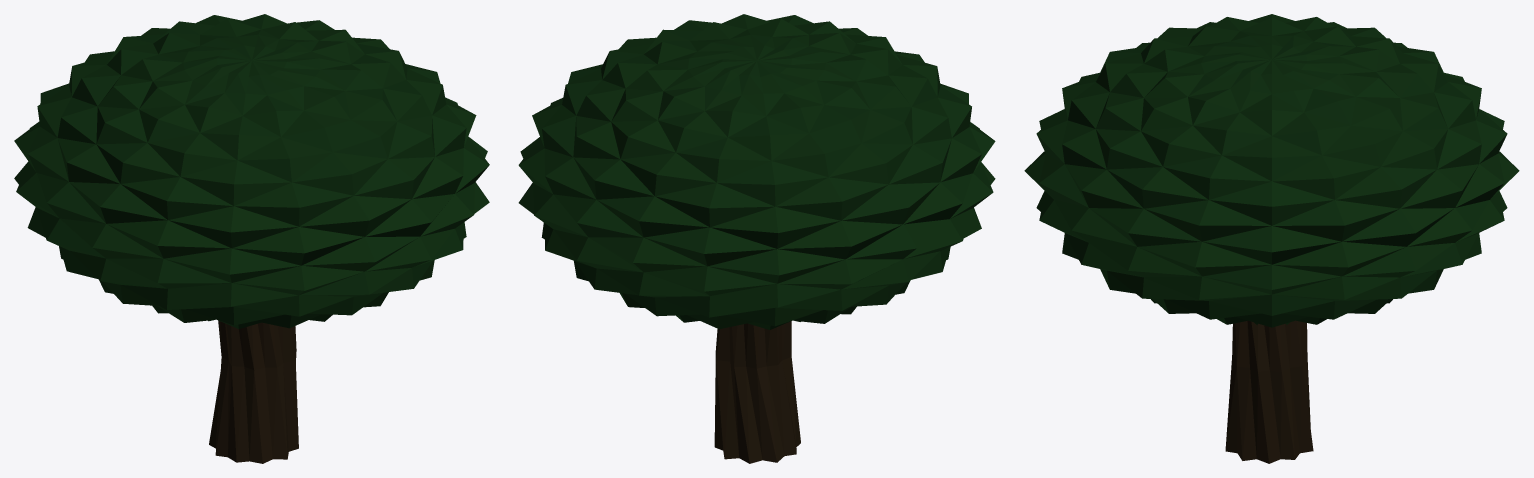
File: ShortFatTree_DrkGreen.fbx
3 renders of one model, left to right at view 1: azimuth 30°, elevation 25°; view 2: azimuth 150°, elevation 25°; view 3: azimuth 270°, elevation 25°, orthographic.
Parts seen in each view (by area): view 1: pSphere3, pCylinder3; view 2: pSphere3, pCylinder3; view 3: pSphere3, pCylinder3.
Part boxes in pixels (left/top/right/bottom): pSphere3: left=14, top=14, right=489, bottom=328; pCylinder3: left=209, top=320, right=298, bottom=463; pSphere3: left=518, top=14, right=995, bottom=329; pCylinder3: left=714, top=321, right=800, bottom=463; pSphere3: left=1024, top=14, right=1519, bottom=327; pCylinder3: left=1225, top=320, right=1313, bottom=463.
Bounding box in the file's own units: 17.7 × 15.89 × 18.46.
